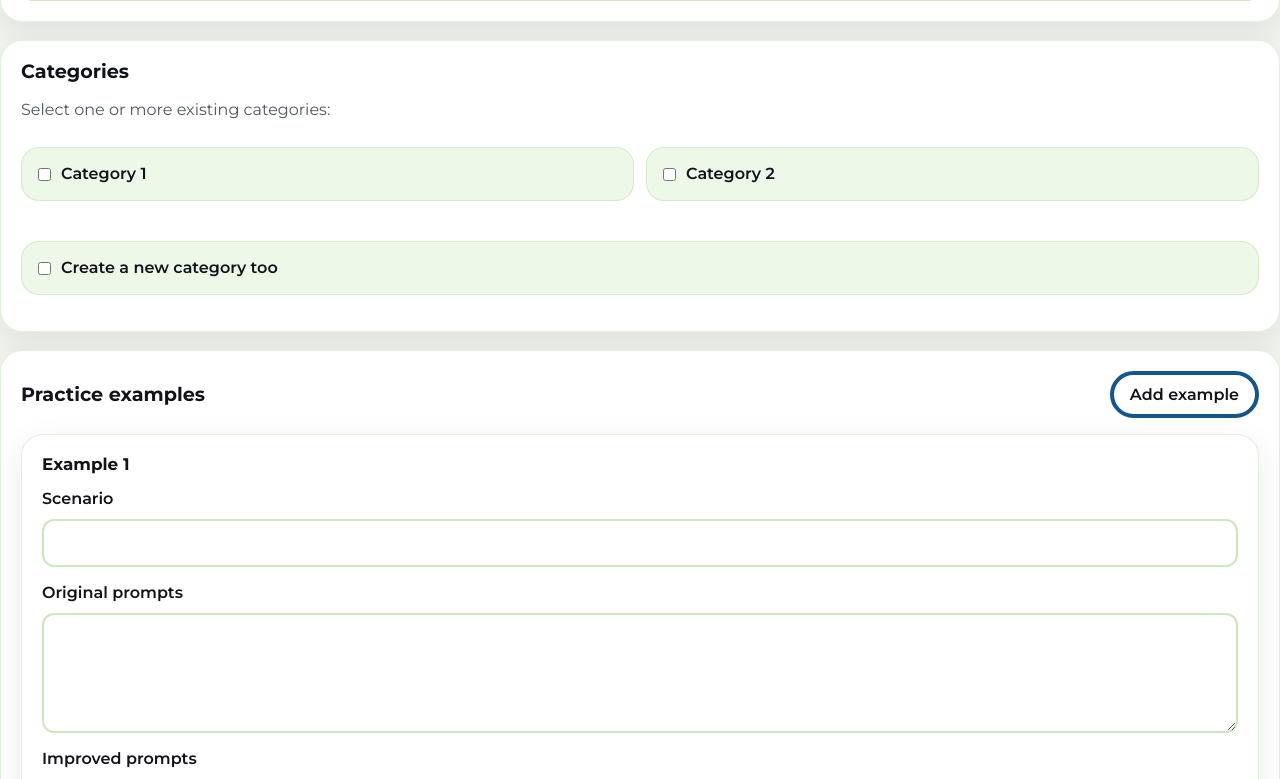
Test: PracticeForm Component › Practice Examples - Add/Remove › displays remove button only when multiple examples exist
(page scrolled)
Click the button "Add example" at (1184, 395), box left=1110, top=371, right=1259, bottom=418
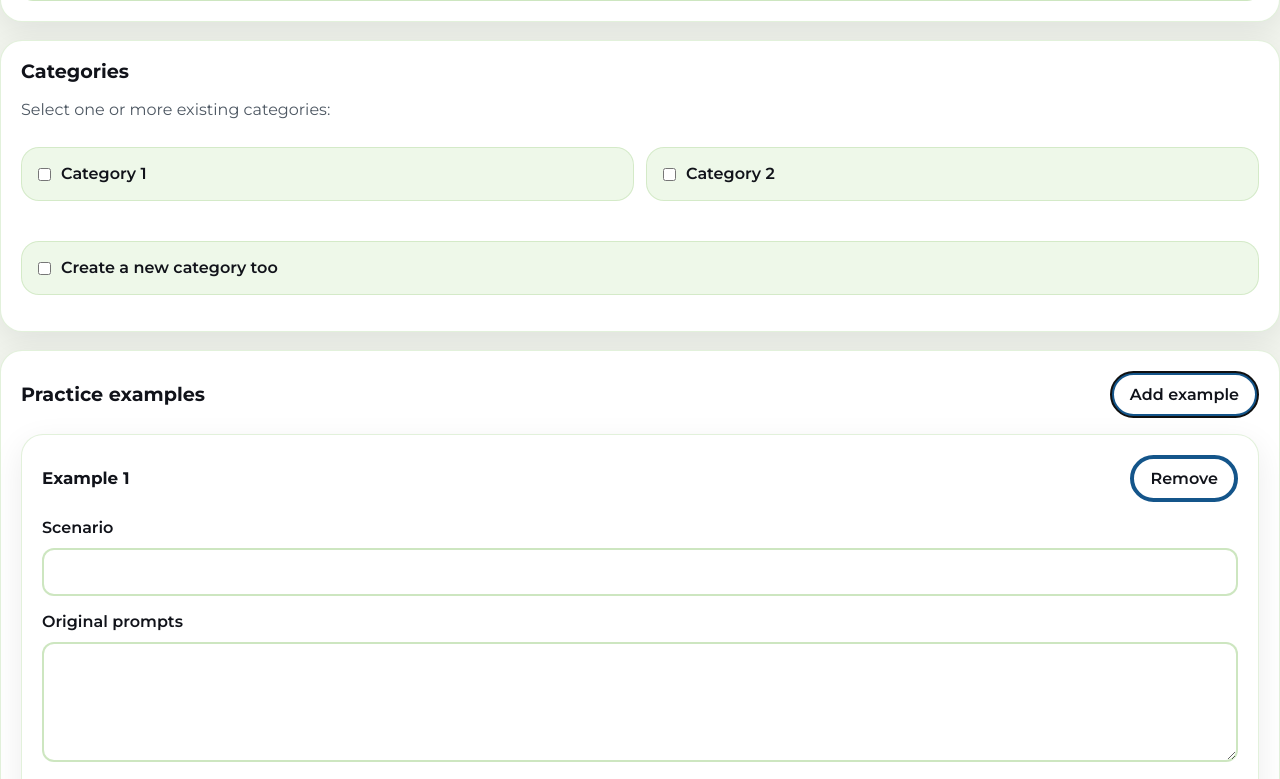
Result: the button "Remove" is shown at left=1130, top=455, right=1238, bottom=502
